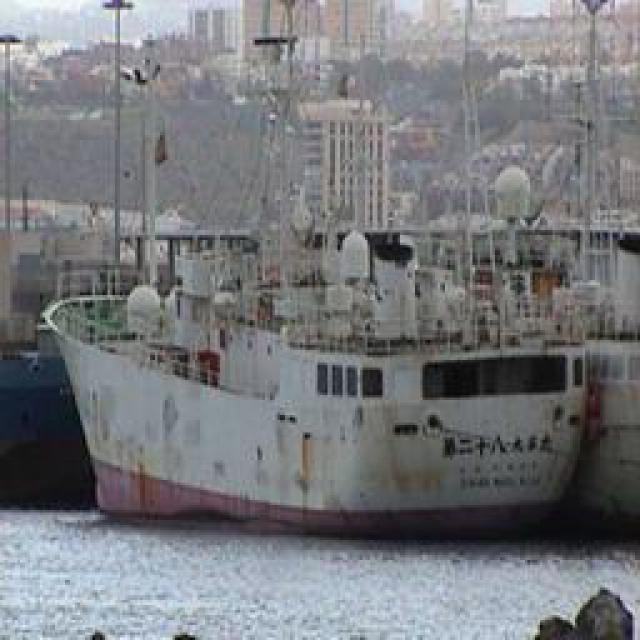Ship: (50, 230, 620, 538)
